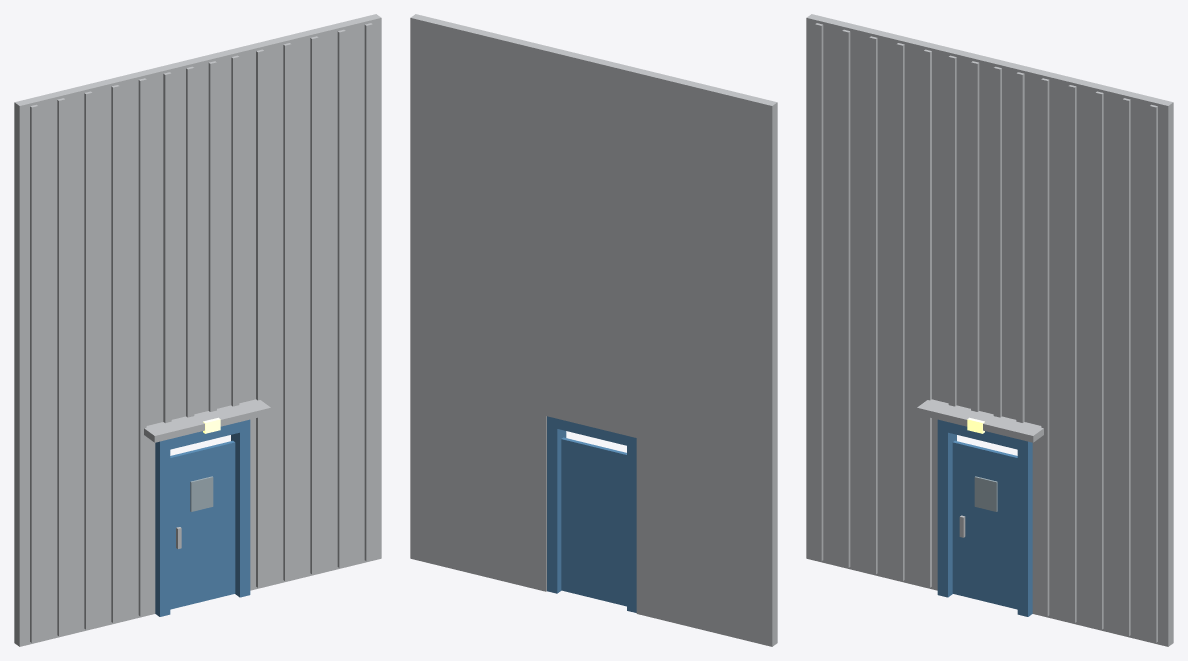
Rendered from hall-personnel-door-bay.glb.
3 renders of one model, left to right at view 1: azimuth 30°, elevation 25°; view 2: azimuth 150°, elevation 25°; view 3: azimuth 330°, elevation 25°, orthographic.
Parts seen in each view (by area): view 1: hall-personnel-door-bay, door-personnel/blue, door-personnel/glass; view 2: hall-personnel-door-bay, door-personnel/blue; view 3: hall-personnel-door-bay, door-personnel/blue, door-personnel/glass.
Boxes of the visible parts, x1,y1,x2,y2 form: hall-personnel-door-bay: (14,14,381,646); door-personnel/blue: (170,440,235,609); door-personnel/glass: (190,476,213,511); hall-personnel-door-bay: (410,14,777,646); door-personnel/blue: (561,437,626,606); hall-personnel-door-bay: (806,14,1173,646); door-personnel/blue: (952,440,1017,609); door-personnel/glass: (974,476,997,511).
Size of the model in its own units: 5.6 by 8 by 0.4711.
